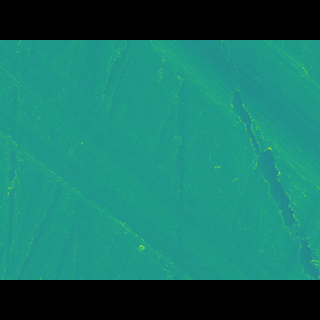Loch: (0, 120, 289, 250), (144, 71, 320, 176)
